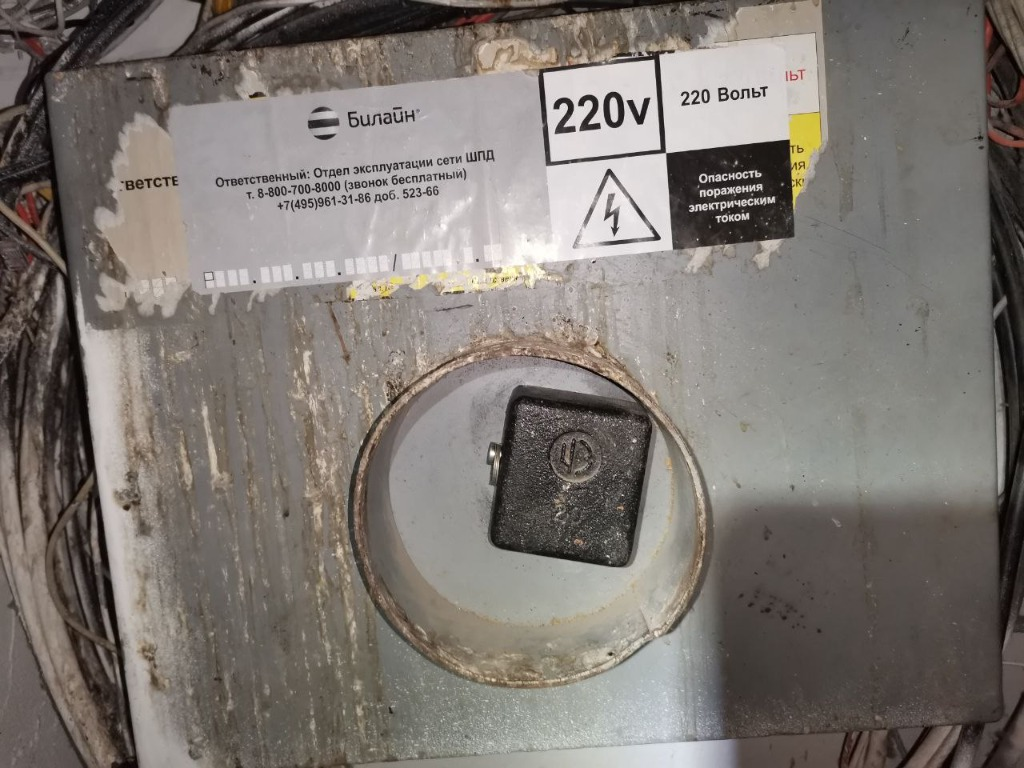shta-3: (33, 7, 1003, 761)
